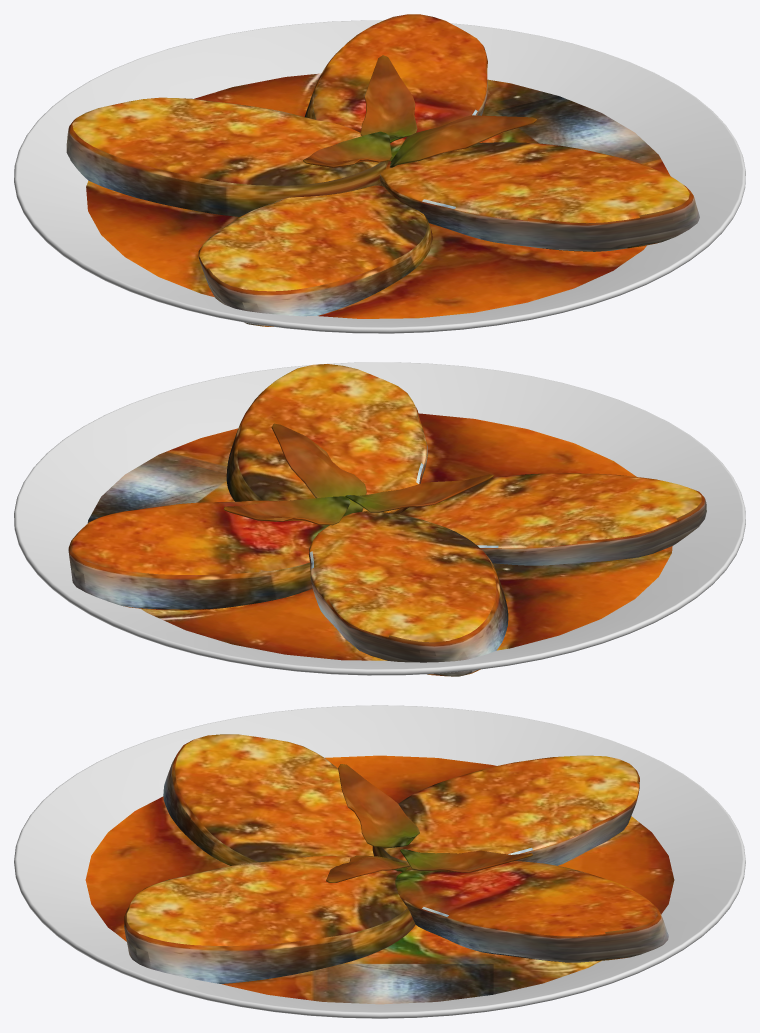
Rendered from Fish cut.glb.
3 views of the same model, one above another, from view 1: azimuth 30°, elevation 25°; view 2: azimuth 150°, elevation 25°; view 3: azimuth 270°, elevation 25° (orthographic).
Parts seen in each view (by area): view 1: Fish cut; view 2: Fish cut; view 3: Fish cut.
Part boxes in pixels (x1,y1,x2,y2): Fish cut: (14, 14, 745, 333); Fish cut: (14, 362, 745, 676); Fish cut: (14, 705, 745, 1018).
Bounding box in the file's own units: 0.231 × 0.0408 × 0.231.
Materials: 2 (1 with a texture image).
